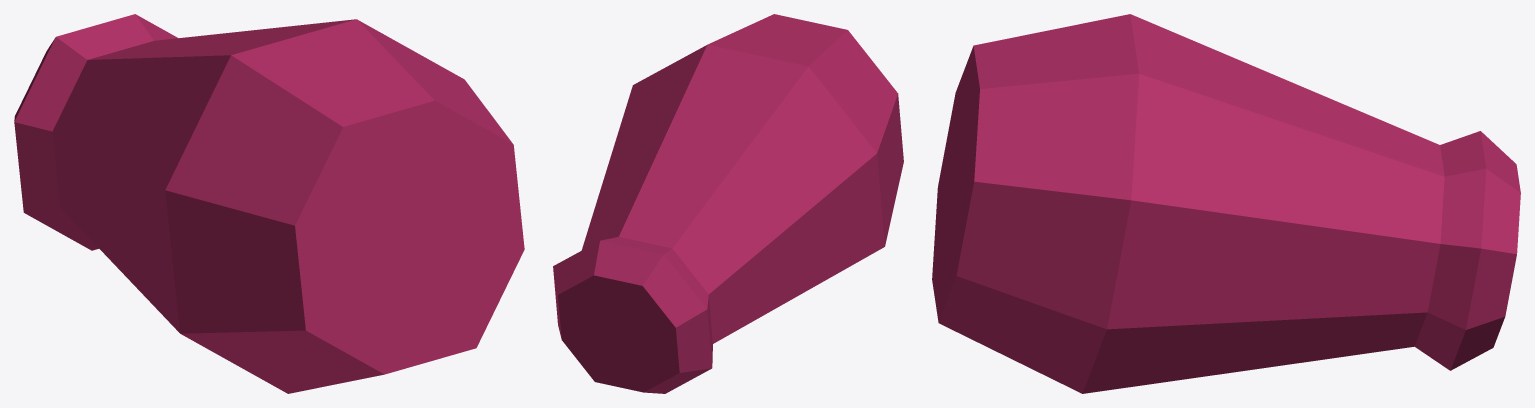
File: simplePot.fbx
3 views of the same model, side by side, from view 1: azimuth 30°, elevation 25°; view 2: azimuth 150°, elevation 25°; view 3: azimuth 270°, elevation 25° (orthographic). The views are drawn at different scales.
Visible parts, largest first — view 1: Cube.003; view 2: Cube.003; view 3: Cube.003.
Boxes of the visible parts, box(x1,y1,x2,y2) form: Cube.003: box(14, 14, 524, 393); Cube.003: box(553, 14, 903, 393); Cube.003: box(932, 14, 1520, 393).
Bounding box in the file's own units: 165 × 162 × 280.
